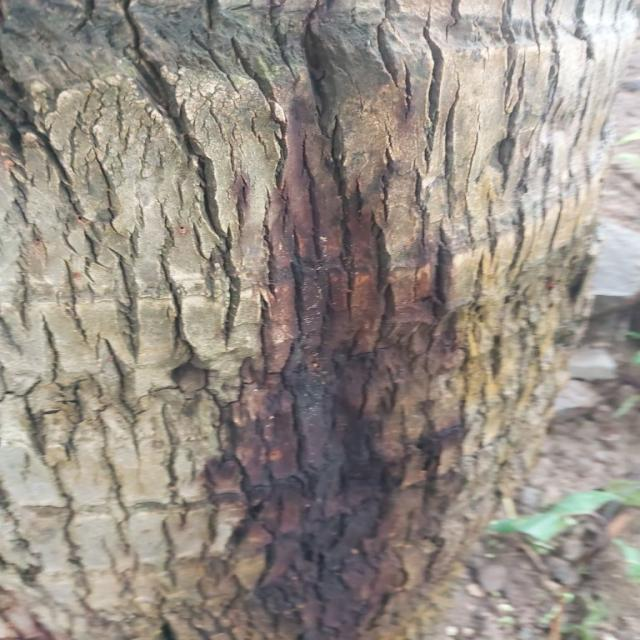stembleeding: (190, 34, 448, 633)
